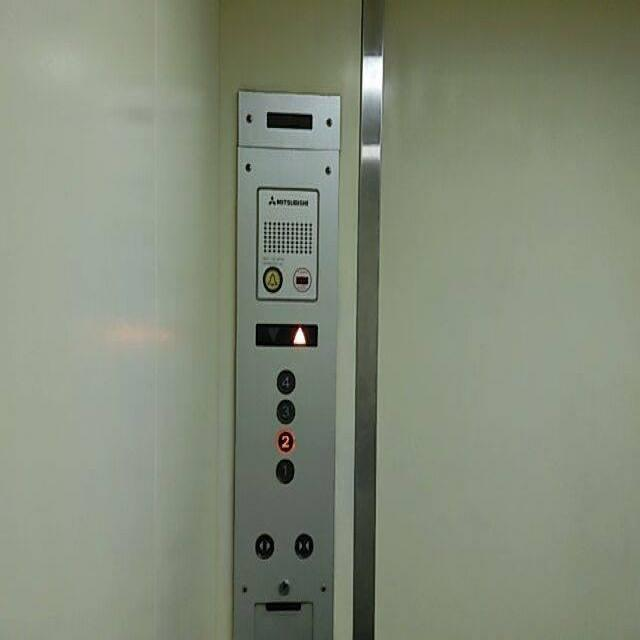1: (273, 456, 294, 483)
2: (275, 428, 295, 453)
3: (274, 396, 296, 424)
4: (274, 366, 294, 394)
alarm: (261, 263, 283, 293)
close: (292, 530, 313, 558)
keyhole: (277, 577, 290, 595)
led: (254, 321, 318, 347), (265, 109, 311, 127)
open: (253, 531, 275, 560)
unknown: (292, 262, 310, 290)
